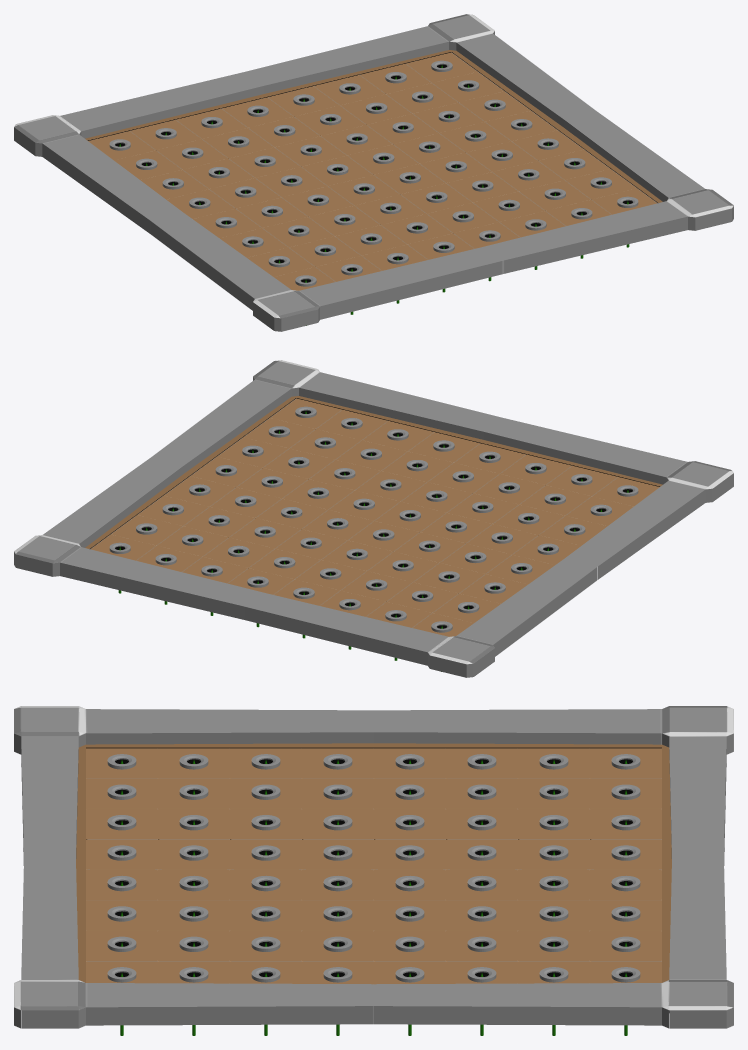
Rendered from spearTrapFinalHotSpotGreen.fbx.
The picture shows the model from 3 angles, top to bottom: view 1: azimuth 30°, elevation 25°; view 2: azimuth 150°, elevation 25°; view 3: azimuth 270°, elevation 25°; orthographic projection. The views are drawn at different scales.
Parts seen in each view (by area): view 1: Base, Spears; view 2: Base, Spears; view 3: Base, Spears.
Part boxes in pixels (x1,y1,x2,y2): Base: (14,14,733,331); Spears: (119,65,629,325); Base: (14,360,733,677); Spears: (118,411,628,671); Base: (14,706,733,1028); Spears: (120,760,627,1035).
Size of the model in its own units: 10 by 1.1 by 10.
